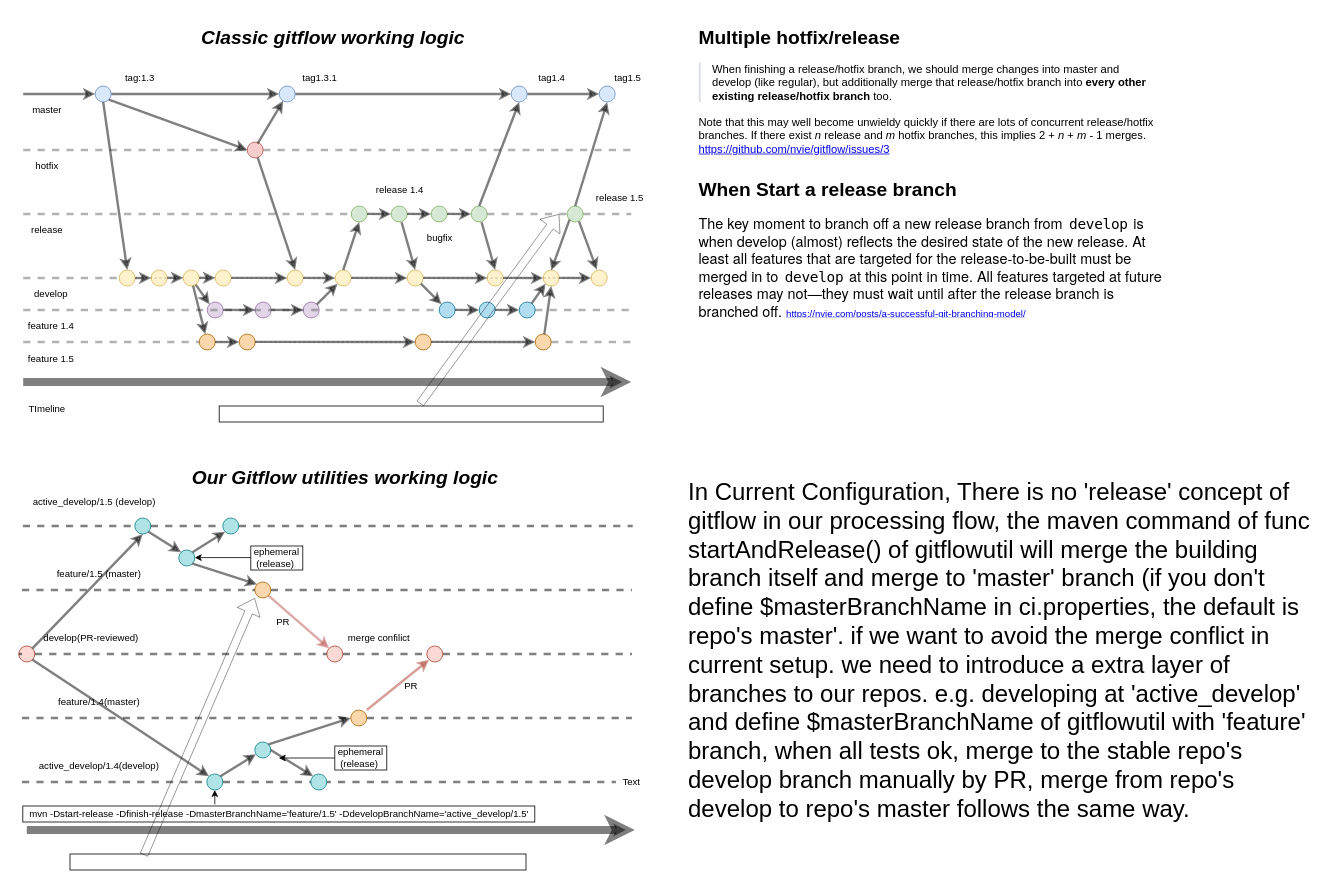
Image size: 1325x884. Some labels were removed from this diagram. The centre of each missing label's shape, as x and y in pixels:
IF WE DON'T KNOW WHICH ONE WILL RELEASE FIRST: point 297,861
IF YOU CAN ARRANGE 1.5 RELEASE BRANCH AFTER 1.4 DEVELOPING & BUG FIX: point 410,413
